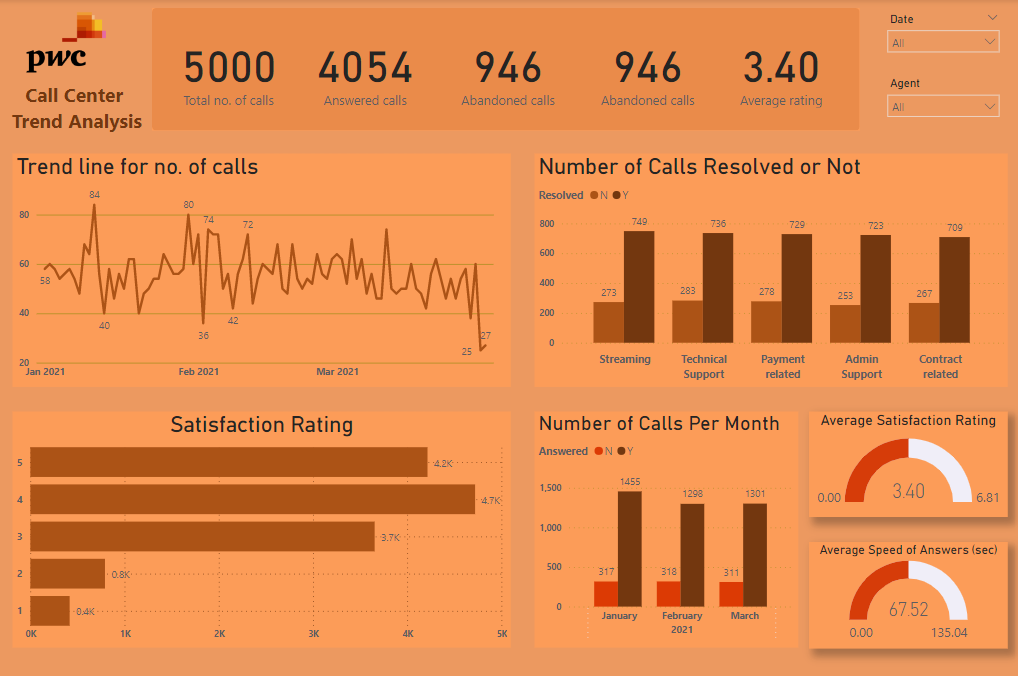

The page's visual inventory and layout, read from the dashboard file:
{"tool":"powerbi","page":{"name":"Page 2","canvas":[1280,850],"ordinal":1},"visuals":[{"type":"shape","box":[191.7,11.7,885,153.3],"z":0},{"type":"image","box":[4,12,160,85.3],"z":1000},{"type":"textbox","box":[4.3,97.1,187.1,85.7],"z":2000},{"type":"slicer","fields":{"Values":["Sheet1.Agent"]},"box":[1101.7,91.7,160,68.3],"z":3000},{"type":"slicer","fields":{"Values":["Sheet1.Date"]},"box":[1101.7,11.7,160,68.3],"z":4000},{"type":"card","fields":{"Values":["CountNonNull(Sheet1.Answered (Y/N))"]},"box":[208.3,35,156.7,105],"z":5000},{"type":"card","fields":{"Values":["CountNonNull(Sheet1.Answered (Y/N))"]},"box":[365,35,183.3,105],"z":6000},{"type":"card","fields":{"Values":["CountNonNull(Sheet1.Answered (Y/N))"]},"box":[548.3,35,176.7,105],"z":7000},{"type":"card","fields":{"Values":["CountNonNull(Sheet1.Answered (Y/N))"]},"box":[725,35,173.3,105],"z":8000},{"type":"card","fields":{"Values":["Avg(Sheet1.Satisfaction rating)"]},"box":[898.3,35,158.3,105],"z":9000},{"type":"lineChart","title":"Trend line for no. of calls","fields":{"Y":["CountNonNull(Sheet1.Call Id)"],"Category":["Sheet1.Date.Variation.Date Hierarchy.Year","Sheet1.Date.Variation.Date Hierarchy.Quarter","Sheet1.Date.Variation.Date Hierarchy.Month","Sheet1.Date.Variation.Date Hierarchy.Day"]},"box":[16.7,193.3,623.3,291.7],"z":10000},{"type":"clusteredColumnChart","title":"Number of Calls Resolved or Not","fields":{"Category":["Sheet1.Topic"],"Y":["CountNonNull(Sheet1.Topic)"],"Series":["Sheet1.Resolved"]},"box":[670,193.3,591.7,291.7],"z":11000},{"type":"barChart","title":"Satisfaction Rating","fields":{"Category":["Sheet1.Satisfaction rating"],"Y":["Sum(Sheet1.Satisfaction rating)"]},"box":[16.7,516.7,623.3,295],"z":12000},{"type":"clusteredColumnChart","title":"Number of Calls Per Month","fields":{"Y":["CountNonNull(Sheet1.Call Id)"],"Category":["Sheet1.Date.Variation.Date Hierarchy.Year","Sheet1.Date.Variation.Date Hierarchy.Month"],"Series":["Sheet1.Answered (Y/N)"]},"box":[670,516.7,330,295],"z":13000},{"type":"gauge","title":"Average Satisfaction Rating","fields":{"Y":["Avg(Sheet1.Satisfaction rating)"]},"box":[1013.3,516.7,248.3,131.7],"z":14000},{"type":"gauge","fields":{"Y":["Avg(Sheet1.Speed of answer in seconds)"]},"box":[1013.3,678.3,248.3,133.3],"z":15000}]}

Visuals, with their boxes in screenshot pixels (x1, y1, x2, y2), scaled from the page's 1280x850 canvas onto the 1018x676 screenshot:
shape: rect(152, 9, 856, 131)
image: rect(3, 10, 130, 77)
textbox: rect(3, 77, 152, 145)
slicer - Sheet1.Agent: rect(876, 73, 1003, 127)
slicer - Sheet1.Date: rect(876, 9, 1003, 64)
card - CountNonNull(Sheet1.Answered (Y/N)): rect(166, 28, 290, 111)
card - CountNonNull(Sheet1.Answered (Y/N)): rect(290, 28, 436, 111)
card - CountNonNull(Sheet1.Answered (Y/N)): rect(436, 28, 577, 111)
card - CountNonNull(Sheet1.Answered (Y/N)): rect(577, 28, 714, 111)
card - Avg(Sheet1.Satisfaction rating): rect(714, 28, 840, 111)
"Trend line for no. of calls" lineChart: rect(13, 154, 509, 386)
"Number of Calls Resolved or Not" clusteredColumnChart: rect(533, 154, 1003, 386)
"Satisfaction Rating" barChart: rect(13, 411, 509, 646)
"Number of Calls Per Month" clusteredColumnChart: rect(533, 411, 795, 646)
"Average Satisfaction Rating" gauge: rect(806, 411, 1003, 516)
gauge - Avg(Sheet1.Speed of answer in seconds): rect(806, 539, 1003, 645)
